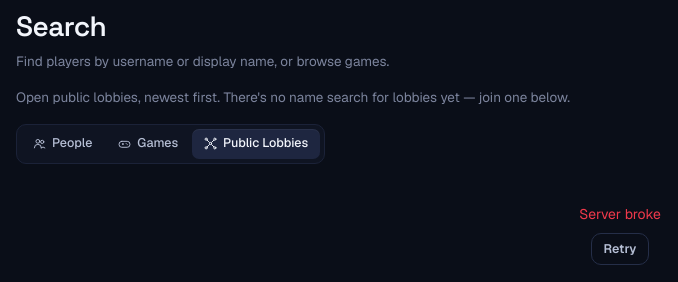
it: SearchResultsPage — Public Lobbies tab › shows an error state with retry on failure
The image size is (678, 282).
Check: the text "Server broke" is shown, box x1=579 y1=204 x2=661 y2=222
Click the button "Retry": (620, 249) x1=591 y1=233 x2=649 y2=265
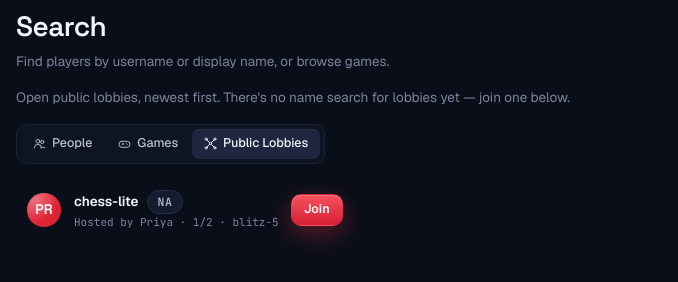
Check: the text "chess-lite" is shown, box x1=74 y1=191 x2=139 y2=212
